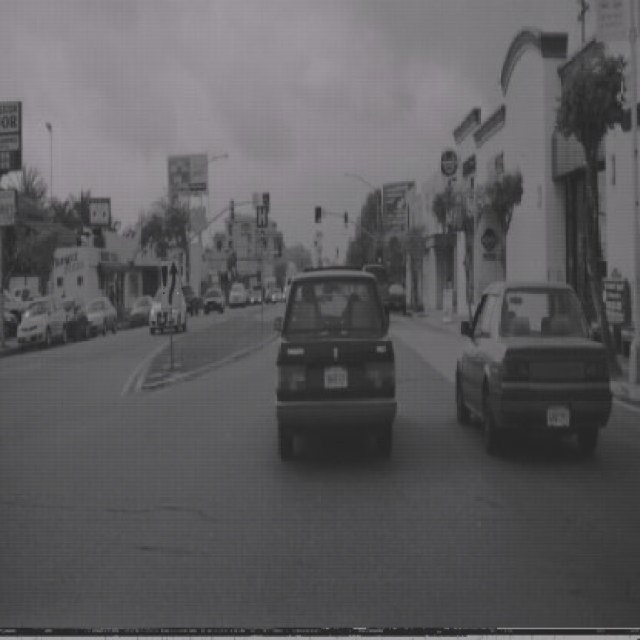keepRight: (158, 256, 182, 312)
